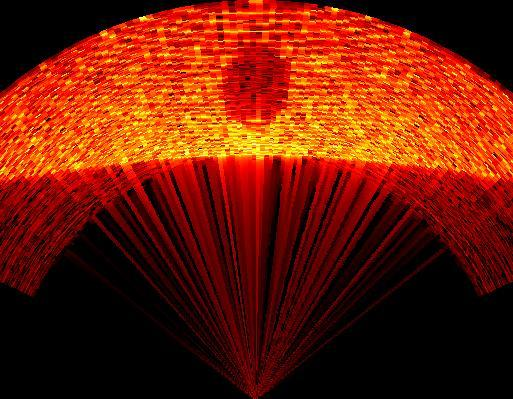box_crate: (220, 43, 292, 120)
